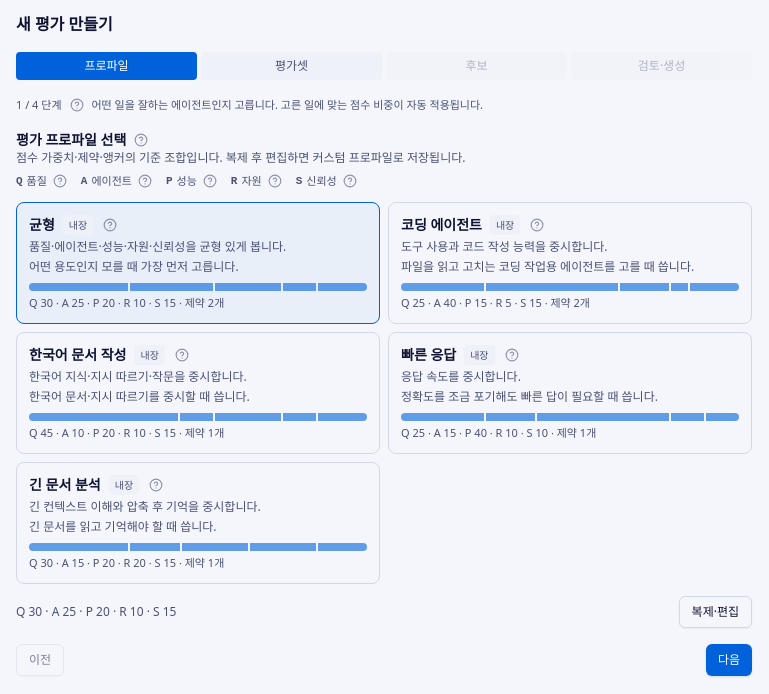
it: EvalRunWizard › offers quick/standard/full sizes with per-pack advanced settings
This screenshot has width=769, height=694.
Click the button "다음": (729, 660) x1=706 y1=644 x2=752 y2=676
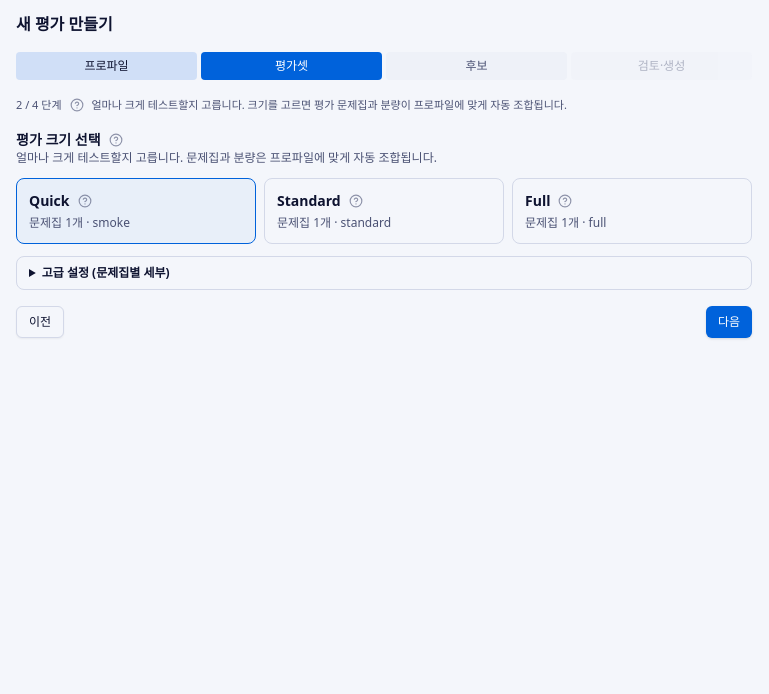
Now the text "Quick" is shown, box x1=29 y1=191 x2=70 y2=211
Now the text "Standard" is shown, box x1=277 y1=191 x2=341 y2=211
Now the text "Full" is shown, box x1=525 y1=191 x2=550 y2=211
per-pack details live behind the advanced fold
Click the heading "고급 설정 (문제집별 세부)": (106, 272) x1=42 y1=264 x2=170 y2=281
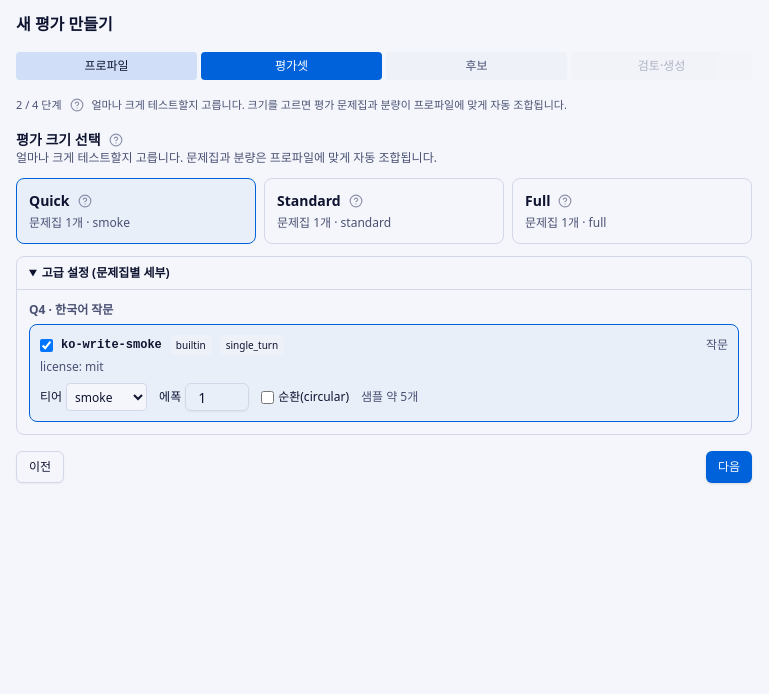
Now the text "티어" is shown, box x1=40 y1=383 x2=147 y2=411
